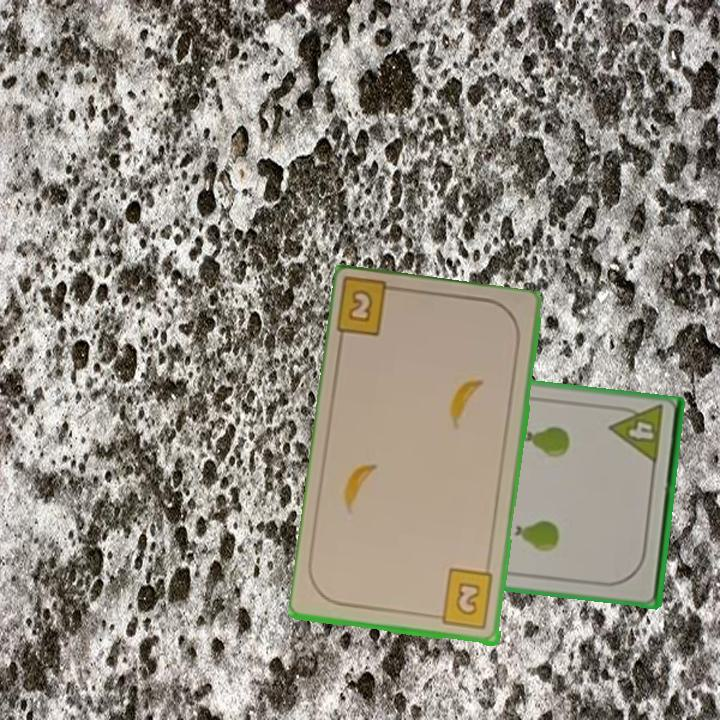2b: (335, 277, 407, 340), (429, 566, 497, 632)
4p: (606, 402, 666, 469)
